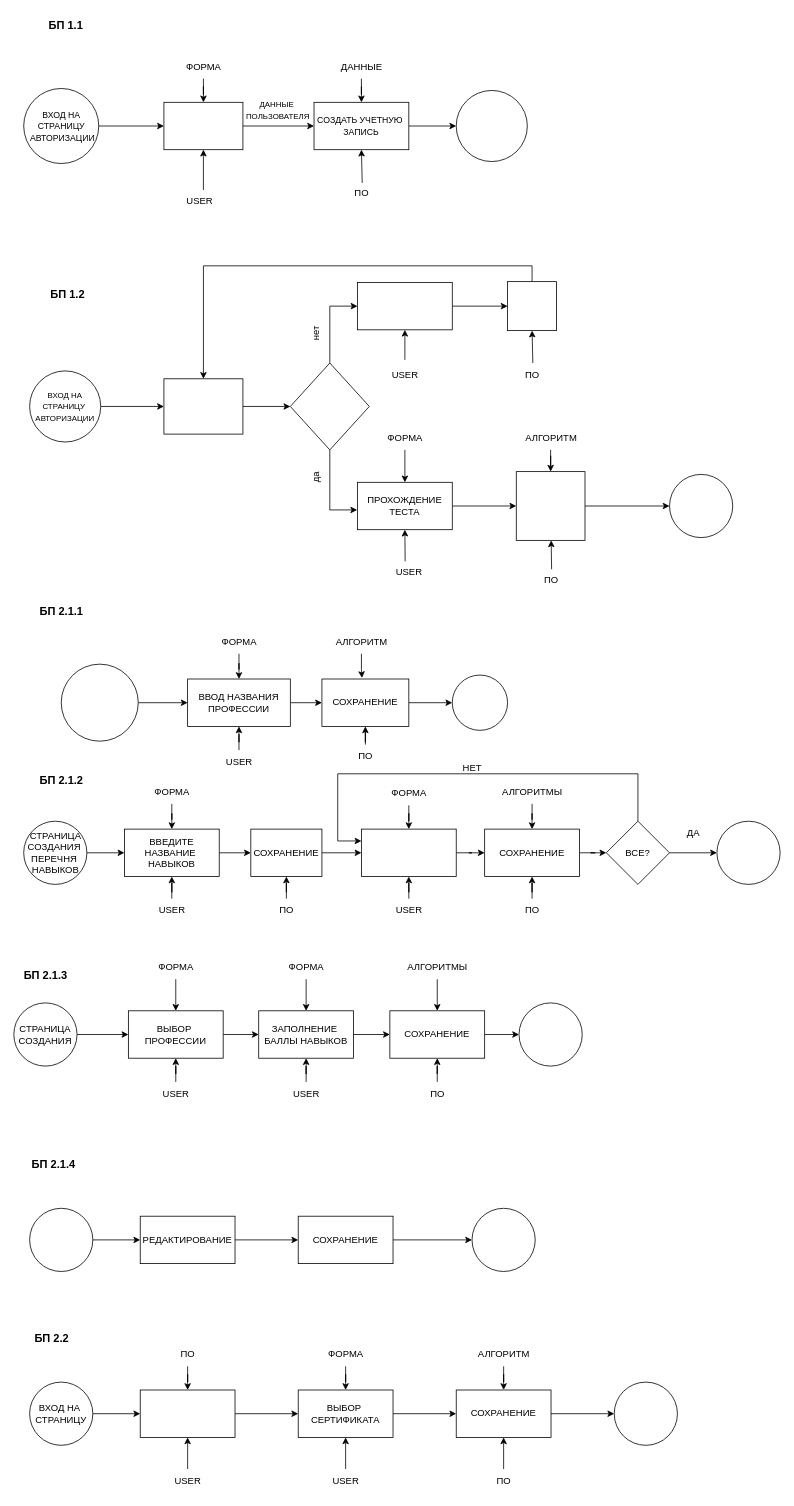
Some shapes in this 794 by 1506 pixel diagram are drawn without their labels. Here are the shapes that lost their labels. From the top down, the centre of each, then its label:
At [203,126]: "ЗАПОЛНИТЕ АНКЕТУ".
At [404,306]: "ТРЕБОВАНИЯ НАПОМНИТЬ".
At [532,306]: "ДАТЬ НОВЫЙ ПАРОЛЬ".
At [203,406]: "ВВОД УЧЕТА ДАННЫХ".
At [329,406]: "ПРОВЕРКА УЧ. ДАННЫХ".
At [550,505]: "СОХРАНЕНИЕ РЕЗУЛЬТАТОВ".
At [99,702]: "СТРАНИЦА СОЗДАНИЯ ПРОФИЛЯ".
At [408,852]: "ВВЕДЕНИЕ ВОПРОСА".
At [61,1240]: "ВХОД".
At [187,1413]: "ПОДГОТОВКА ФАЙЛА".
